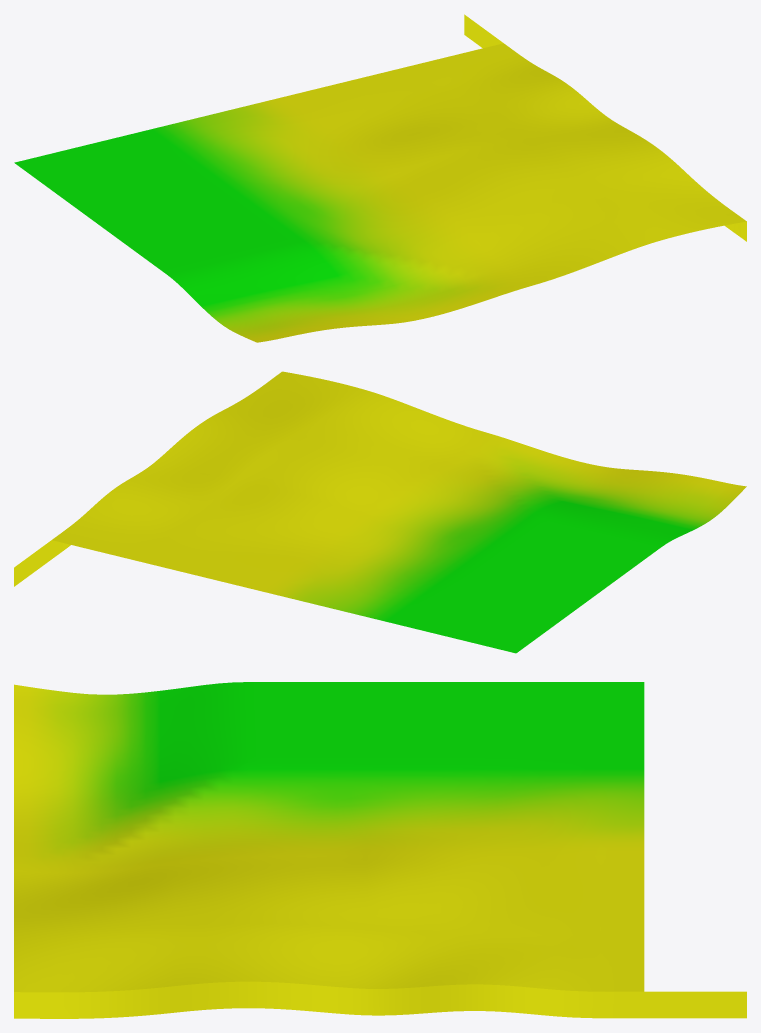
File: terrain_3_1.glb
3 renders of one model, top to bottom at view 1: azimuth 30°, elevation 25°; view 2: azimuth 150°, elevation 25°; view 3: azimuth 270°, elevation 25°, orthographic. The views are drawn at different scales.
Visible parts, largest first — view 1: terrain_3_1.0, terrain_3_1.1; view 2: terrain_3_1.0, terrain_3_1.1; view 3: terrain_3_1.0, terrain_3_1.1.
Boxes of the visible parts, x1,y1,x2,y2 form: terrain_3_1.0: [14, 43, 746, 342]; terrain_3_1.1: [464, 14, 746, 241]; terrain_3_1.0: [52, 371, 746, 653]; terrain_3_1.1: [14, 540, 70, 586]; terrain_3_1.0: [14, 682, 644, 992]; terrain_3_1.1: [14, 981, 746, 1018].
Bounding box in the file's own units: 50 × 2.98 × 50.
